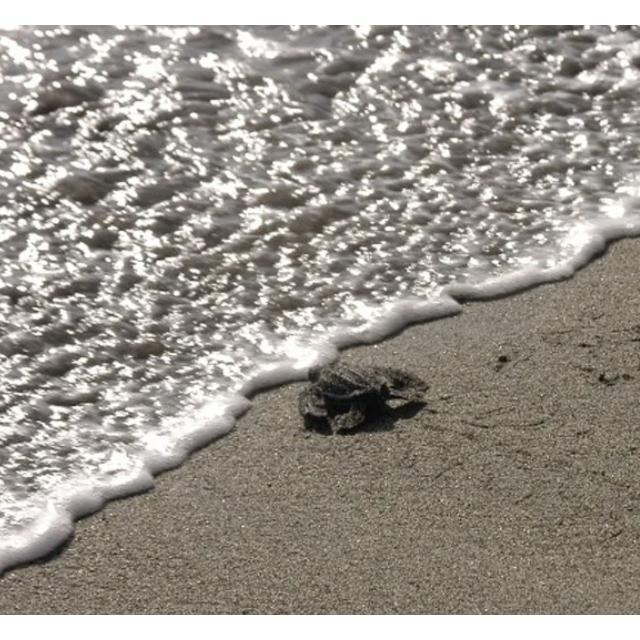turtle: (299, 364, 431, 438)
